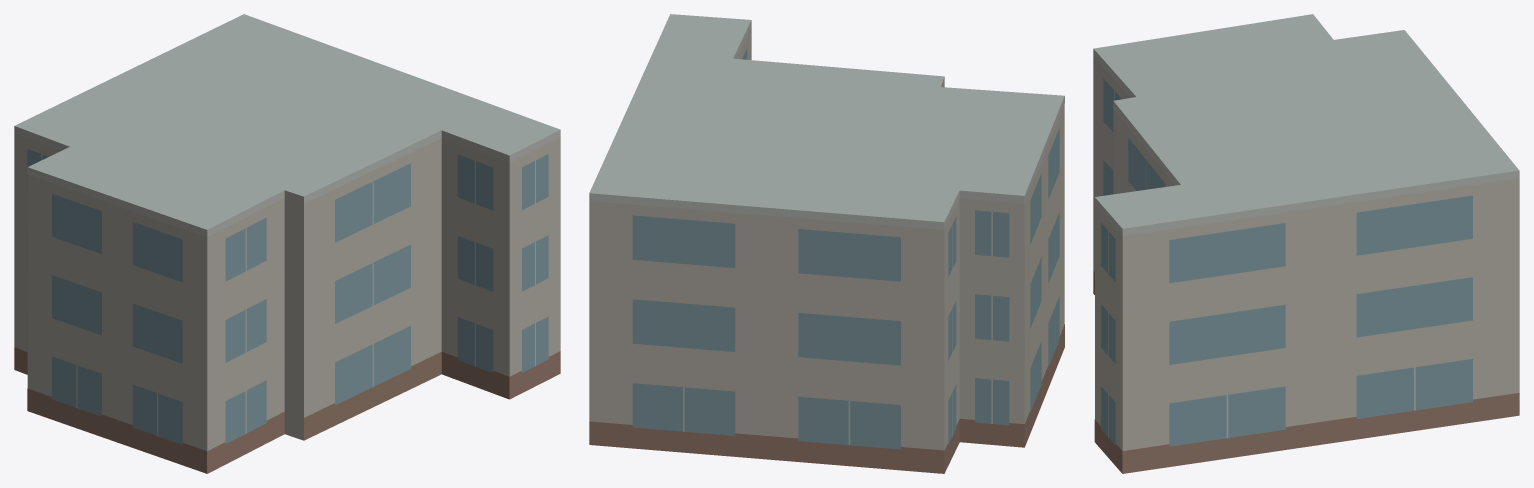
The model's file is survey-upis-32500154.glb.
The picture shows the model from 3 angles, left to right: view 1: azimuth 30°, elevation 25°; view 2: azimuth 150°, elevation 25°; view 3: azimuth 270°, elevation 25°; orthographic projection. The views are drawn at different scales.
Visible parts, largest first — view 1: survey-upis-32500154.tmp; view 2: survey-upis-32500154.tmp; view 3: survey-upis-32500154.tmp.
Boxes of the visible parts, <box> form: survey-upis-32500154.tmp: <box>14,14,560,473</box>; survey-upis-32500154.tmp: <box>589,14,1064,473</box>; survey-upis-32500154.tmp: <box>1093,14,1519,473</box>.
Bounding box in the file's own units: 15.05 × 8 × 12.62.
